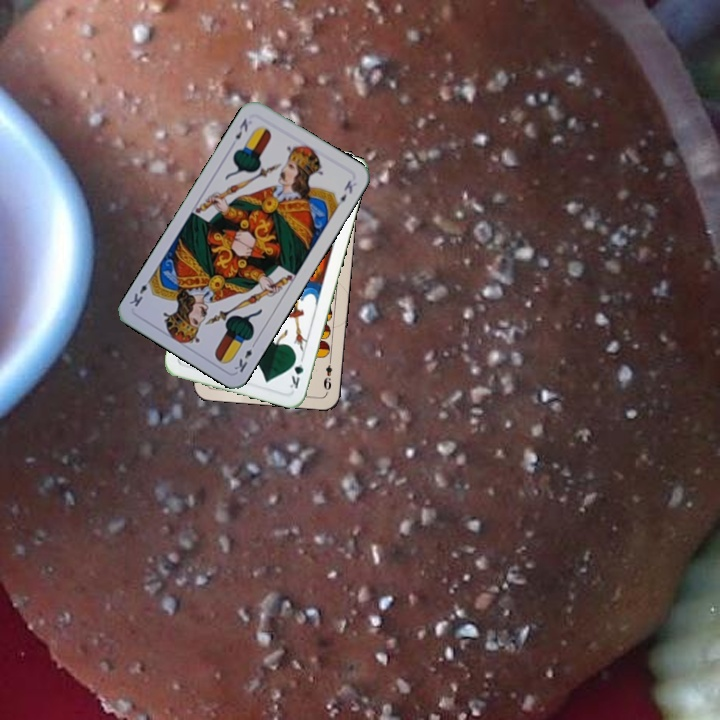E9: (319, 354, 335, 392)
EK: (230, 337, 259, 375), (231, 114, 251, 142)
GK: (285, 351, 306, 391)
